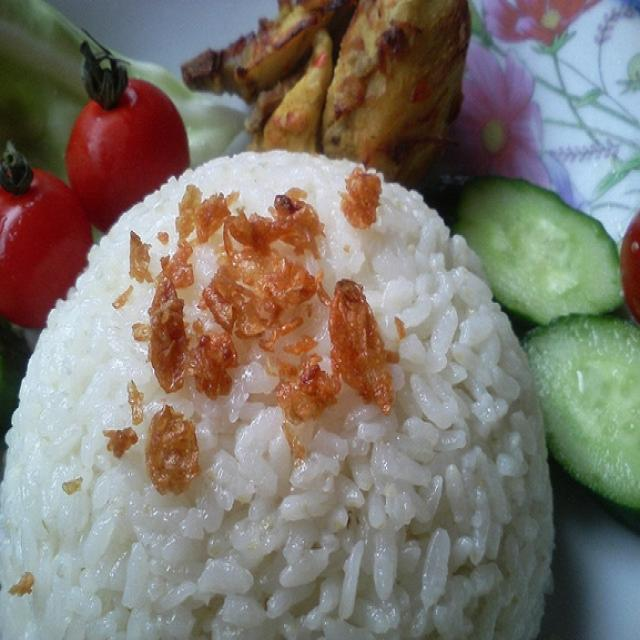米饭主食: (16, 14, 616, 608)
